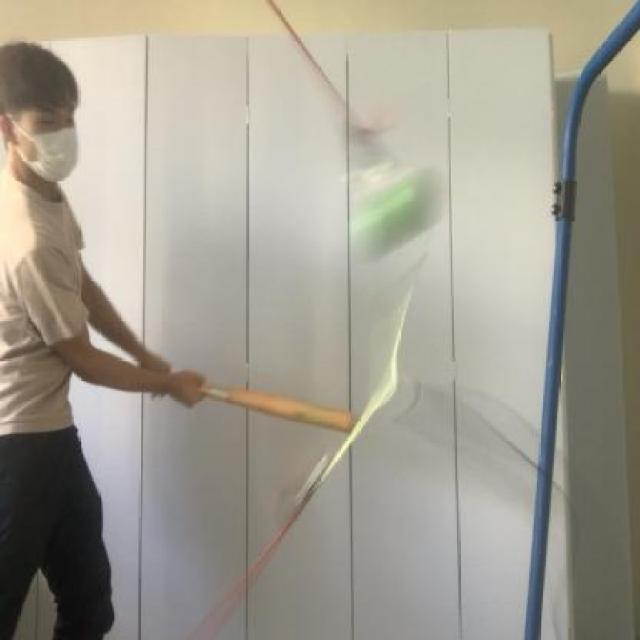baseball: (336, 170, 447, 262)
